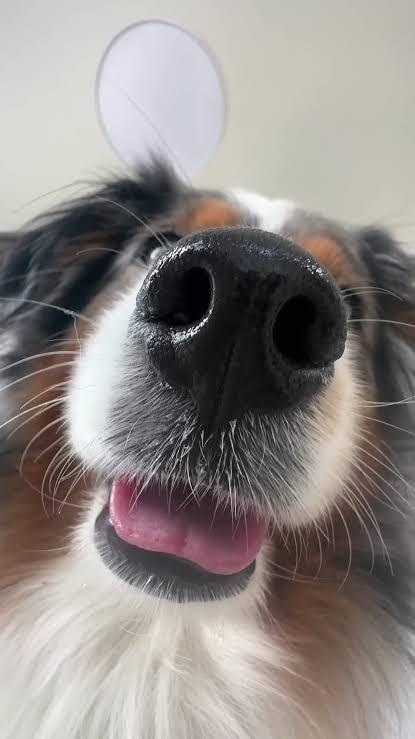adult_dog: (0, 160, 415, 739)
